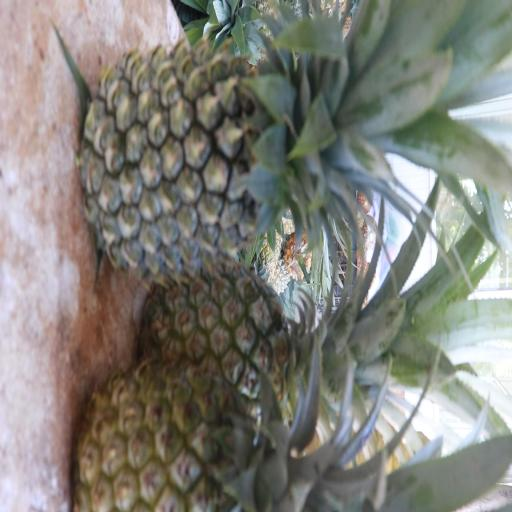------------------------------: (69, 356, 413, 506), (130, 255, 368, 436)
